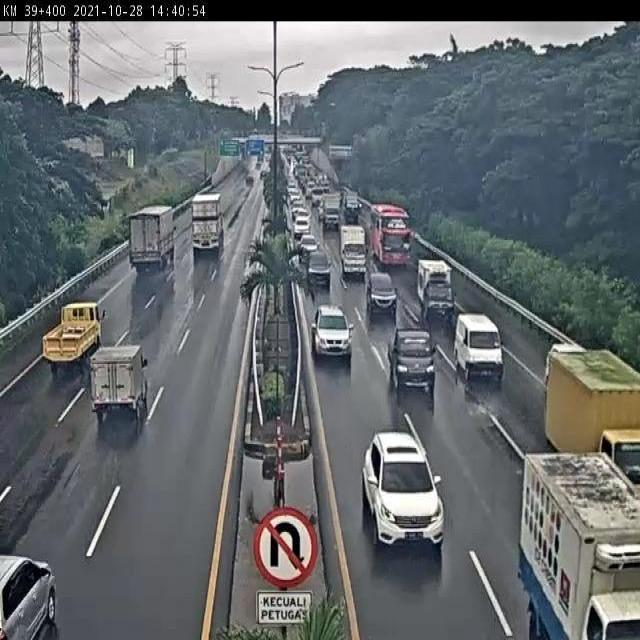big bus: (368, 202, 409, 266)
big truck: (189, 193, 224, 255)
car: (362, 432, 449, 549), (454, 312, 504, 381), (387, 326, 436, 390), (310, 301, 354, 363), (363, 266, 397, 310), (304, 247, 334, 289)
mid truck: (547, 349, 640, 503), (338, 222, 368, 278)
small truck: (91, 342, 150, 418), (416, 257, 455, 319)
truck-m-: (41, 300, 107, 373), (125, 204, 176, 275)
